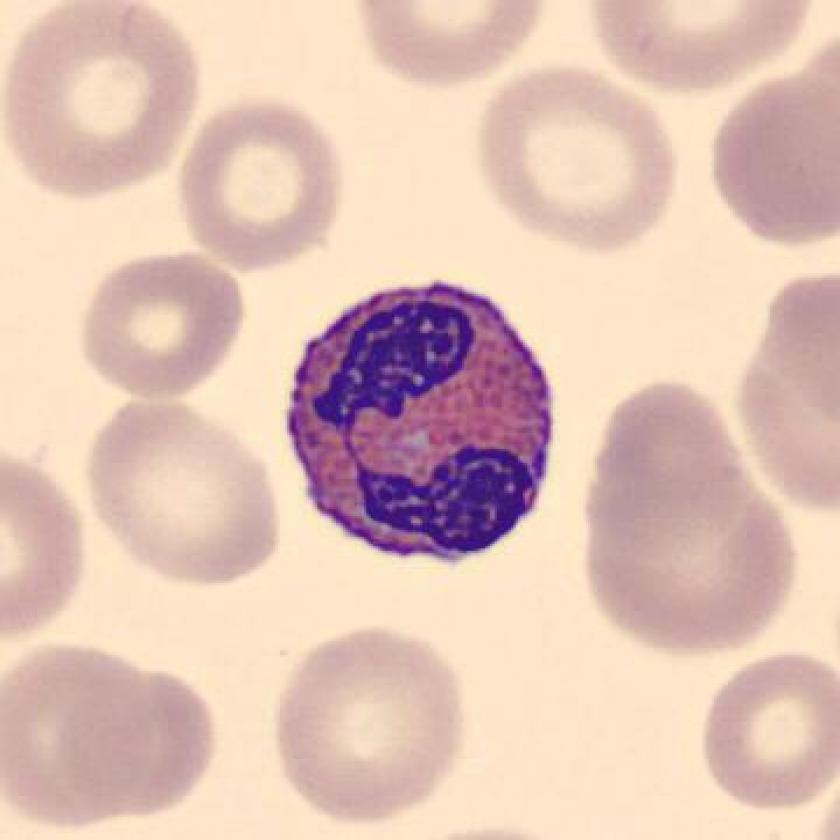eosinophil: (267, 262, 573, 582)
